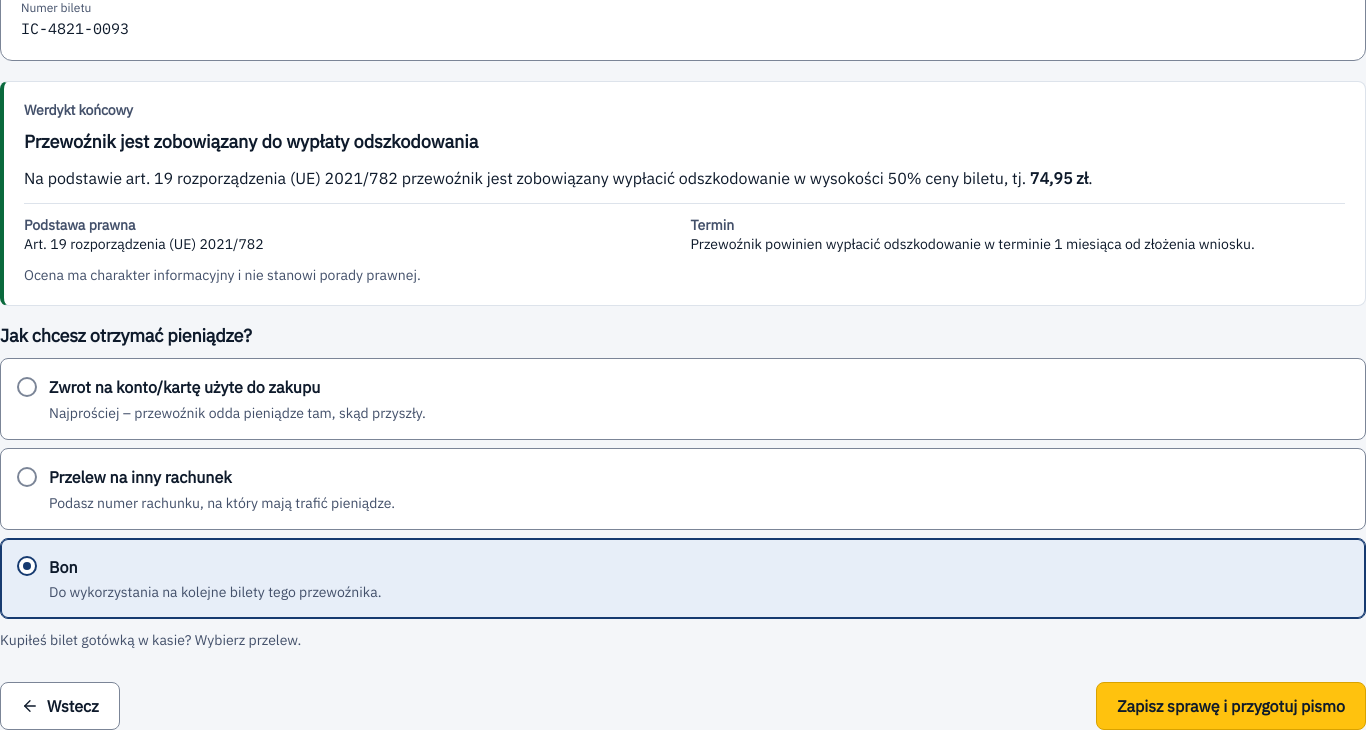
Test: ResultStep – errors › offers a retry when the letter could not be prepared (502) without saving the case twice
(page scrolled)
Click the button "Zapisz sprawę i przygotuj pismo": x=1231, y=706 [1096,682,1365,729]
(page scrolled)
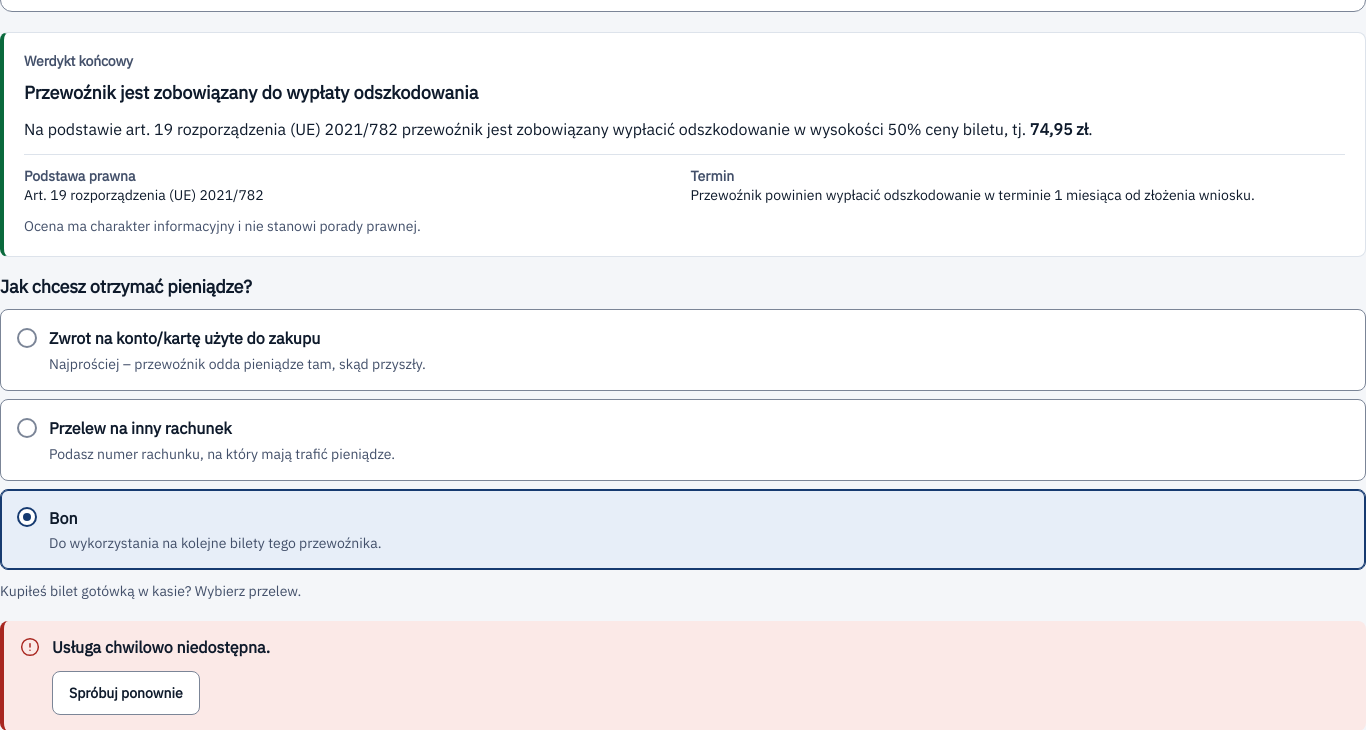
Click the button "Spróbuj ponownie": x=126, y=693 [52,671,200,715]
(page scrolled)
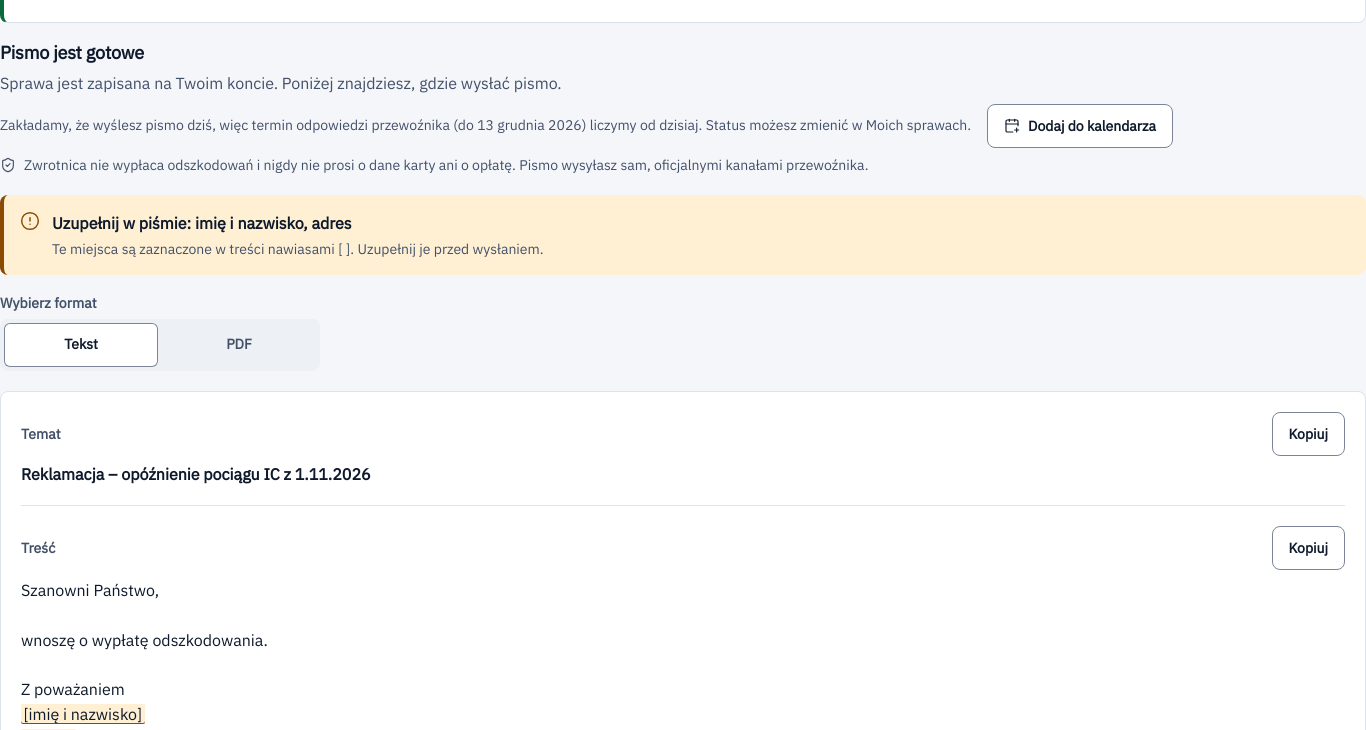
Expected: the heading "Pismo jest gotowe" is shown, [0,40,144,64]
